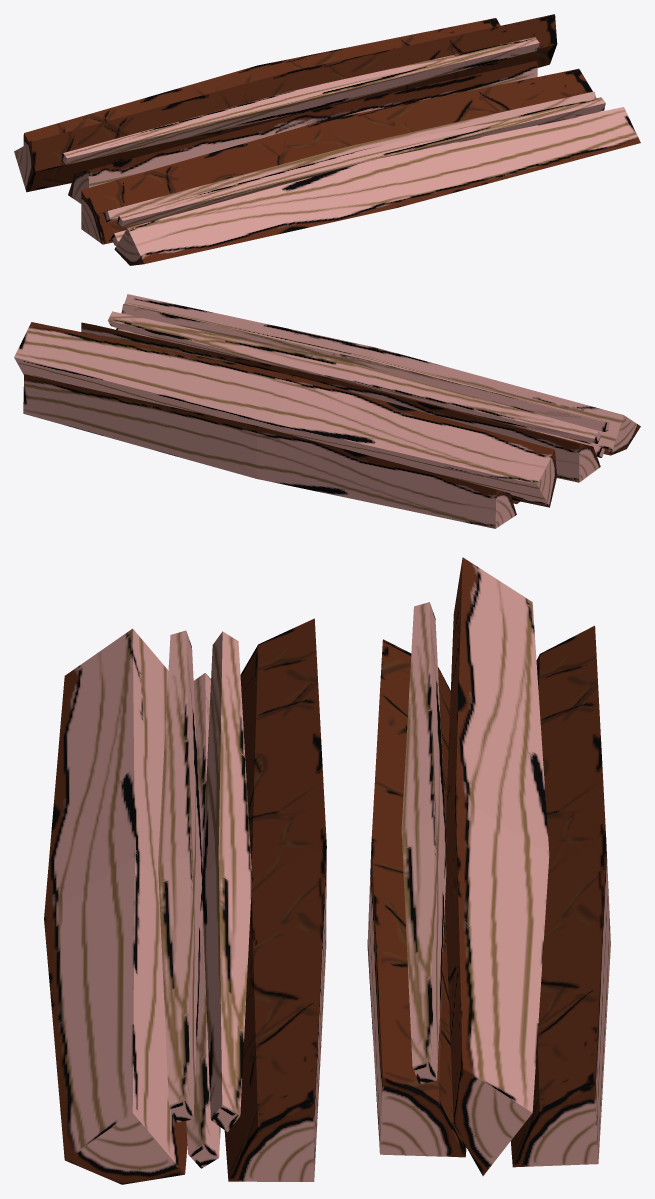
The model's file is Chopped_WillowBranch.fbx.
The picture shows the model from 3 angles, top to bottom: view 1: azimuth 30°, elevation 25°; view 2: azimuth 150°, elevation 25°; view 3: azimuth 270°, elevation 25°; orthographic projection. The views are drawn at different scales.
Visible parts, largest first — view 1: cut_large, cut_large.004, cut_large.001, cut_small.001, cut_large.003, cut_small.002, cut_large.002, cut_small.003; view 2: cut_large.001, cut_large.002, cut_small.003, cut_large, cut_large.004, cut_small.002; view 3: cut_large, cut_large.001, cut_large.004, cut_large.002, cut_large.003, cut_small.003, cut_small.002, cut_small.001, cut_small.
Boxes of the visible parts, x1,y1,x2,y2 form: cut_large: (114,107,640,265); cut_large.004: (81,68,592,244); cut_large.001: (14,14,557,192); cut_small.001: (61,37,539,164); cut_large.003: (68,61,537,203); cut_small.002: (117,97,605,227); cut_large.002: (23,18,500,186); cut_small.003: (103,91,596,222); cut_large.001: (14,322,556,507); cut_large.002: (23,374,516,528); cut_small.003: (108,311,600,443); cut_large: (116,294,640,455); cut_large.004: (81,322,600,482); cut_small.002: (121,303,609,431); cut_large: (44,628,187,1184); cut_large.001: (445,557,549,1175); cut_large.004: (224,618,326,1181); cut_large.002: (510,625,610,1167); cut_large.003: (367,639,466,1157); cut_small.003: (202,631,251,1131); cut_small.002: (158,630,202,1122); cut_small.001: (401,602,446,1084); cut_small: (186,673,220,1168).
Size of the model in its own units: 89.65 by 42.05 by 12.82.
Materials: 1 (1 with a texture image).
